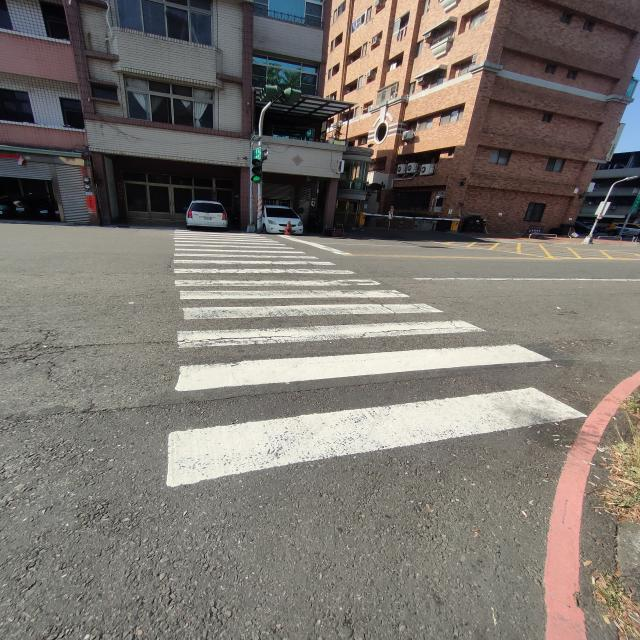zebra crossing: (175, 231, 601, 488)
